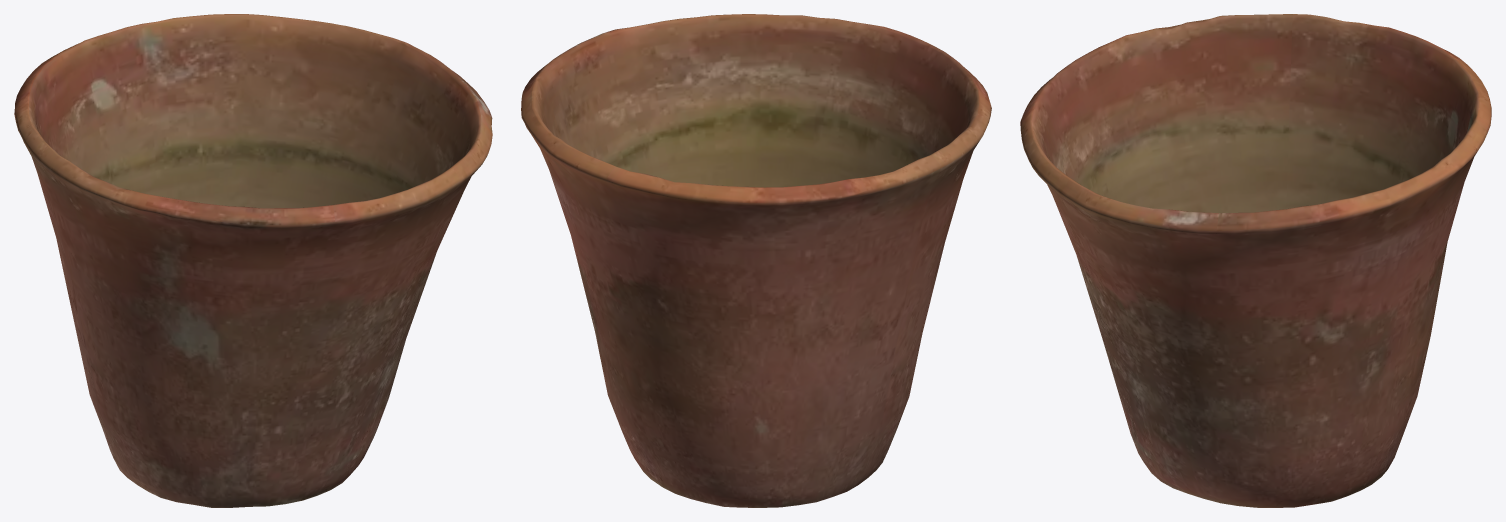
The model's file is planter_pot_clay.glb.
3 renders of one model, left to right at view 1: azimuth 30°, elevation 25°; view 2: azimuth 150°, elevation 25°; view 3: azimuth 270°, elevation 25°, orthographic.
Parts seen in each view (by area): view 1: planter_pot_clay_lod0; view 2: planter_pot_clay_lod0; view 3: planter_pot_clay_lod0.
Boxes of the visible parts, x1,y1,x2,y2 form: planter_pot_clay_lod0: (14,14,492,507); planter_pot_clay_lod0: (521,14,991,507); planter_pot_clay_lod0: (1020,14,1491,507).
Size of what is drawn, in the model's own units: 0.266 by 0.2219 by 0.2635.
1 material, 1 textured.
